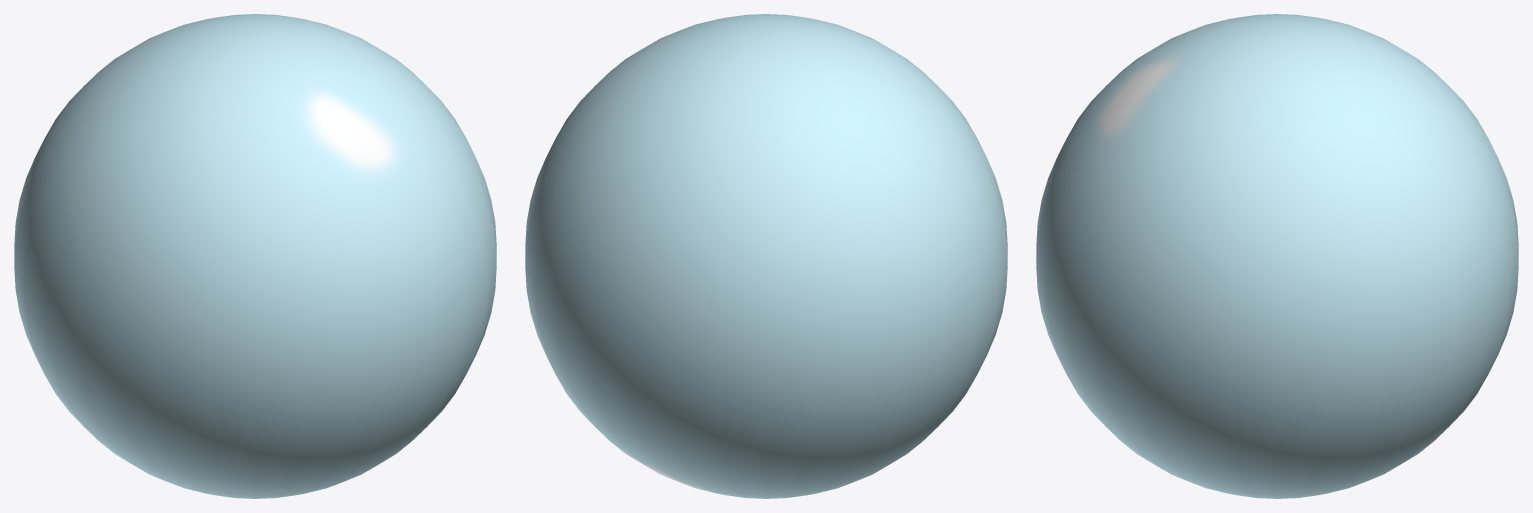
File: Glass.fbx
3 renders of one model, left to right at view 1: azimuth 30°, elevation 25°; view 2: azimuth 150°, elevation 25°; view 3: azimuth 270°, elevation 25°, orthographic.
Parts seen in each view (by area): view 1: pSphere4; view 2: pSphere4; view 3: pSphere4.
Part boxes in pixels (bbox=[...]): pSphere4: bbox=[14, 14, 496, 498]; pSphere4: bbox=[525, 14, 1007, 498]; pSphere4: bbox=[1036, 14, 1518, 498].
Size of the model in its own units: 2.4 by 2.4 by 2.39.
Materials: 1 (1 with a texture image).
